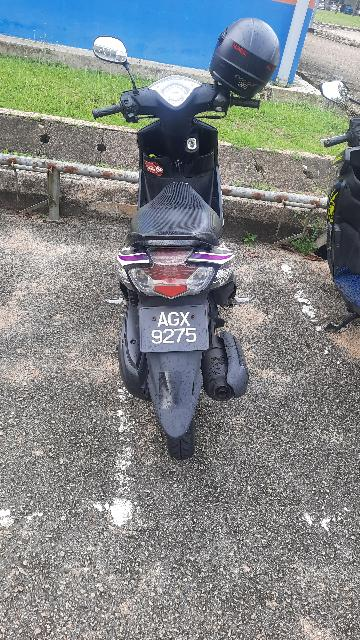License_Plate: (109, 304, 240, 363)
motorcycle: (78, 30, 284, 468)
